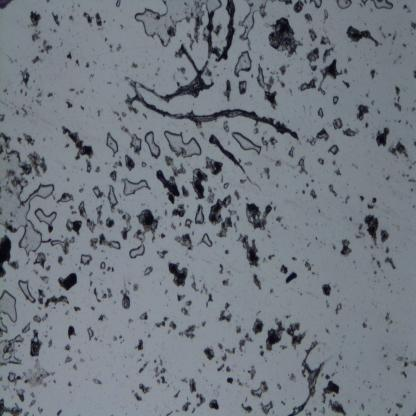Air bubble: (0, 130, 54, 251), (132, 0, 219, 46), (161, 129, 203, 160), (238, 0, 268, 41), (0, 336, 26, 366), (0, 289, 19, 326), (121, 177, 150, 199), (232, 133, 262, 153), (128, 231, 146, 260), (233, 50, 252, 77), (18, 278, 37, 305), (144, 130, 161, 160), (34, 206, 57, 226), (255, 62, 268, 94), (105, 131, 119, 155), (250, 379, 266, 398), (106, 184, 118, 209), (194, 202, 205, 226), (129, 134, 143, 152), (50, 238, 66, 253), (372, 0, 394, 10), (0, 316, 10, 336), (80, 252, 93, 266), (201, 233, 214, 247), (108, 240, 122, 251), (7, 369, 17, 384), (337, 0, 352, 10), (92, 186, 102, 198), (310, 0, 324, 8), (329, 145, 339, 156), (186, 216, 192, 230), (317, 107, 324, 119), (222, 180, 230, 190), (360, 0, 369, 7), (100, 260, 106, 270), (141, 161, 148, 168), (332, 96, 338, 104), (116, 2, 121, 8)
Background material: (266, 14, 306, 61), (209, 194, 239, 240), (61, 123, 94, 162), (20, 358, 56, 390), (236, 232, 262, 269), (316, 57, 341, 94), (0, 233, 19, 281), (245, 202, 274, 231), (266, 316, 288, 353), (136, 207, 160, 240), (346, 25, 379, 48), (191, 162, 208, 202), (169, 258, 188, 291), (78, 199, 96, 233), (363, 214, 380, 248), (286, 321, 306, 349), (216, 344, 236, 372), (322, 374, 340, 404), (28, 151, 47, 178), (265, 74, 280, 108), (29, 328, 43, 362), (394, 354, 412, 380), (388, 139, 410, 160), (0, 396, 23, 416), (306, 128, 330, 147), (152, 358, 168, 386), (203, 153, 223, 175), (175, 230, 195, 251), (164, 157, 186, 176), (58, 272, 78, 292), (94, 285, 115, 304), (83, 10, 105, 28), (217, 298, 231, 324), (306, 45, 320, 71), (120, 210, 132, 240), (298, 76, 318, 94), (182, 321, 198, 342), (374, 126, 390, 147), (296, 153, 309, 178), (328, 398, 346, 416), (119, 285, 131, 312), (65, 217, 83, 235), (90, 234, 107, 253), (178, 293, 192, 316), (45, 293, 69, 306), (339, 236, 353, 258), (239, 332, 253, 354), (393, 84, 403, 113), (382, 254, 398, 272), (33, 251, 49, 269), (252, 315, 265, 337), (123, 152, 137, 172), (20, 68, 33, 89), (357, 102, 370, 122), (262, 133, 278, 149), (171, 200, 186, 217), (30, 10, 42, 30), (40, 37, 54, 54), (202, 286, 212, 309), (223, 78, 232, 103), (95, 202, 104, 227), (331, 115, 344, 132), (260, 398, 273, 415), (237, 77, 248, 97), (342, 125, 360, 137), (378, 226, 390, 244), (322, 46, 334, 64), (181, 397, 193, 415), (187, 374, 197, 395), (57, 192, 74, 204), (321, 280, 332, 298), (138, 382, 152, 396), (204, 346, 216, 362), (105, 216, 117, 232), (137, 359, 149, 375), (36, 287, 46, 306), (252, 274, 263, 291), (67, 323, 78, 340), (14, 385, 25, 402), (285, 271, 298, 285), (154, 316, 168, 329), (14, 105, 28, 118), (112, 107, 126, 120), (110, 332, 124, 345), (258, 251, 276, 261), (167, 320, 179, 335), (32, 312, 49, 322), (155, 249, 168, 262), (127, 102, 140, 115), (293, 0, 305, 14), (241, 400, 253, 414), (143, 263, 154, 278), (367, 196, 378, 211), (248, 363, 257, 381), (355, 222, 365, 238), (196, 392, 206, 408), (191, 274, 199, 294), (286, 143, 296, 159), (207, 185, 215, 205), (387, 28, 400, 40), (307, 27, 317, 42), (222, 119, 232, 134), (329, 182, 338, 198), (278, 63, 289, 76), (180, 184, 191, 197), (109, 170, 119, 184), (220, 274, 230, 288), (308, 186, 318, 200), (29, 389, 36, 408), (321, 34, 332, 46), (97, 312, 107, 325), (132, 391, 142, 404), (384, 312, 393, 326), (85, 159, 94, 173), (22, 320, 31, 334), (236, 378, 248, 388), (53, 12, 61, 27), (30, 31, 42, 41), (24, 134, 34, 146), (208, 400, 220, 410), (111, 159, 123, 169), (40, 272, 49, 285), (136, 338, 144, 352), (408, 157, 416, 171), (378, 26, 386, 40), (0, 0, 10, 11), (304, 260, 314, 271), (32, 55, 43, 65), (139, 311, 149, 322), (279, 264, 288, 276), (35, 94, 43, 107), (304, 12, 313, 23), (92, 377, 103, 386), (402, 3, 411, 14), (87, 327, 94, 341), (258, 344, 265, 358), (275, 213, 283, 225), (277, 0, 293, 6), (276, 77, 284, 89), (132, 282, 140, 294), (69, 304, 81, 312), (404, 117, 412, 129), (236, 323, 243, 336), (341, 79, 351, 88), (56, 255, 65, 265), (65, 100, 74, 110), (178, 67, 189, 75), (105, 266, 116, 274), (394, 402, 405, 410), (263, 168, 270, 180), (335, 303, 342, 315), (370, 68, 377, 80), (344, 193, 351, 205), (64, 356, 73, 365), (19, 88, 28, 97), (68, 204, 76, 214), (289, 372, 297, 382), (130, 60, 138, 70), (380, 350, 388, 360), (218, 263, 224, 276), (0, 112, 6, 125), (336, 354, 342, 367), (88, 275, 94, 288), (274, 157, 281, 168), (174, 76, 180, 88), (122, 126, 128, 138), (234, 188, 240, 200), (334, 168, 342, 177), (323, 327, 332, 335), (376, 258, 382, 270), (384, 363, 393, 371), (116, 42, 122, 54), (89, 72, 96, 82), (48, 336, 53, 350), (64, 342, 71, 352), (95, 107, 101, 118), (364, 119, 370, 130), (323, 8, 328, 21), (84, 61, 92, 69), (356, 403, 364, 411), (173, 390, 181, 398), (330, 242, 338, 250), (212, 389, 220, 397), (318, 157, 326, 165), (290, 254, 298, 262), (227, 376, 235, 384), (325, 299, 331, 309), (17, 136, 23, 146), (394, 117, 402, 124), (65, 52, 72, 60), (369, 100, 376, 108), (268, 286, 275, 294), (159, 230, 166, 238), (144, 331, 151, 339), (408, 178, 416, 185), (2, 85, 8, 94), (36, 405, 42, 414), (75, 59, 81, 68), (75, 88, 84, 94), (302, 411, 312, 416), (80, 104, 85, 114), (359, 194, 364, 204), (47, 93, 55, 99), (412, 19, 416, 31), (200, 320, 206, 328), (366, 384, 374, 390), (66, 378, 72, 386), (253, 126, 259, 134), (22, 410, 30, 416), (76, 347, 82, 355), (170, 224, 178, 230), (401, 40, 407, 48), (362, 321, 368, 329), (412, 69, 416, 81), (300, 188, 306, 196), (403, 392, 408, 401), (163, 208, 168, 217), (408, 184, 413, 193), (128, 317, 133, 326), (401, 173, 410, 178), (385, 244, 389, 255), (385, 281, 391, 288), (245, 161, 252, 167), (46, 264, 52, 271), (166, 410, 173, 416), (48, 225, 53, 233), (69, 14, 74, 22), (57, 408, 62, 416), (72, 363, 77, 371), (155, 69, 160, 77), (386, 172, 390, 181), (90, 306, 96, 312), (103, 35, 108, 42), (349, 215, 354, 222), (411, 409, 416, 416), (120, 22, 124, 30), (96, 166, 100, 174), (110, 44, 114, 52), (278, 382, 282, 390), (364, 93, 369, 99), (78, 188, 84, 193), (313, 234, 318, 240), (223, 249, 229, 254), (372, 270, 378, 275), (345, 68, 350, 74), (280, 400, 285, 406), (376, 109, 381, 115), (412, 359, 416, 366), (348, 56, 352, 63), (46, 0, 51, 5), (79, 358, 84, 363), (88, 271, 93, 276), (68, 88, 74, 92), (318, 206, 321, 214), (388, 408, 392, 414), (52, 29, 57, 33), (311, 178, 315, 183), (268, 234, 272, 239), (66, 177, 70, 181), (412, 206, 416, 210), (412, 110, 416, 114), (395, 412, 399, 416), (306, 182, 309, 187), (413, 141, 416, 146), (336, 324, 339, 329)
Cellulose filter fibre: (130, 89, 300, 140), (124, 10, 216, 100), (206, 133, 262, 191), (290, 340, 326, 415), (173, 47, 204, 98), (218, 0, 236, 62)
Microfibre: (156, 168, 179, 196)
